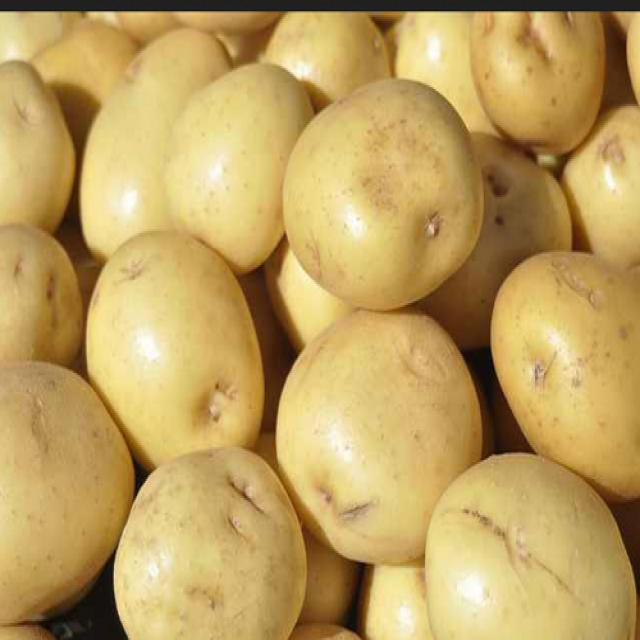potato: (272, 304, 480, 565), (283, 80, 481, 304), (85, 230, 264, 463), (488, 245, 640, 500), (424, 465, 635, 640), (119, 446, 307, 640), (1, 365, 137, 622), (165, 56, 313, 275), (472, 7, 609, 153)
